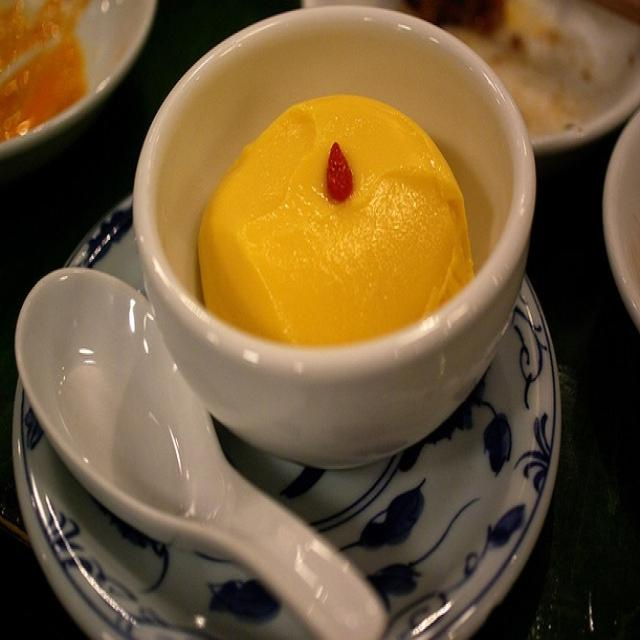蛋糕甜品: (146, 12, 531, 394)
